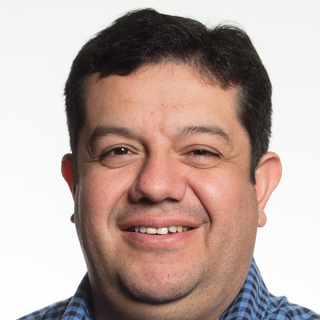eye: (172, 142, 227, 164), (97, 138, 140, 164)
